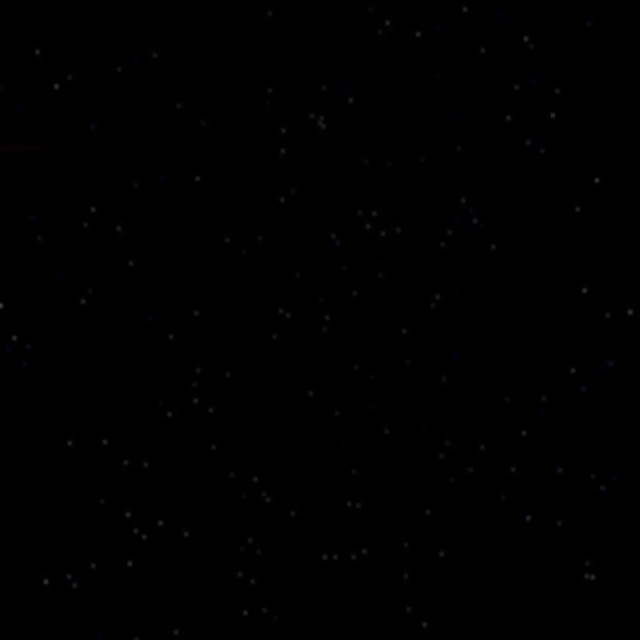medium_debris: (0, 70, 68, 199)
